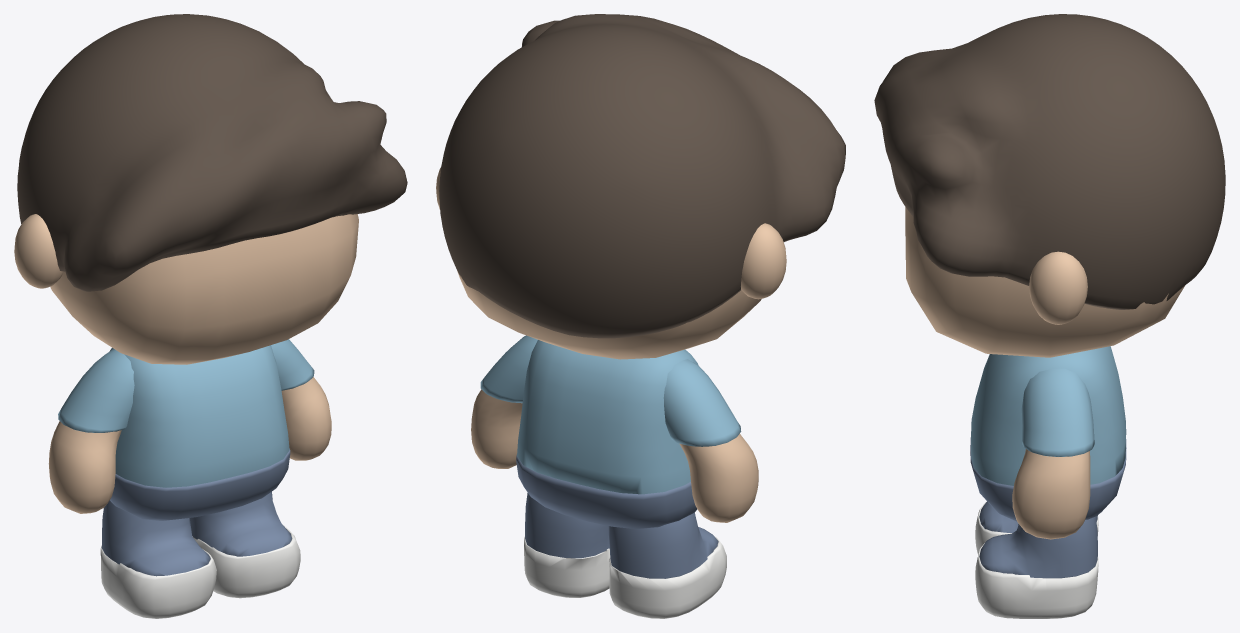
File: npc1.glb
3 renders of one model, left to right at view 1: azimuth 30°, elevation 25°; view 2: azimuth 150°, elevation 25°; view 3: azimuth 270°, elevation 25°, orthographic.
Parts seen in each view (by area): view 1: pelo, orejas, camiseta_mangaR, pantalon_piernaL, zapatoR; view 2: pelo, camiseta_mangaR, orejas, pantalon_piernaL, zapatoR; view 3: pelo, orejas, camiseta_mangaR, pantalon_piernaL, zapatoR.
Part boxes in pixels (box(x1,y1,x2,y2)): pelo: box(17, 14, 407, 291); orejas: box(14, 214, 358, 513); camiseta_mangaR: box(58, 339, 314, 487); pantalon_piernaL: box(101, 448, 291, 576); zapatoR: box(100, 524, 300, 618); pelo: box(439, 14, 845, 338); camiseta_mangaR: box(480, 335, 741, 494); orejas: box(436, 167, 786, 522); pantalon_piernaL: box(516, 455, 718, 578); zapatoR: box(524, 537, 726, 618); pelo: box(874, 14, 1225, 309); orejas: box(905, 207, 1185, 539); camiseta_mangaR: box(971, 346, 1126, 485); pantalon_piernaL: box(970, 437, 1126, 578); zapatoR: box(975, 502, 1098, 618).
Bounding box in the file's own units: 2.55 × 3.98 × 2.28.
